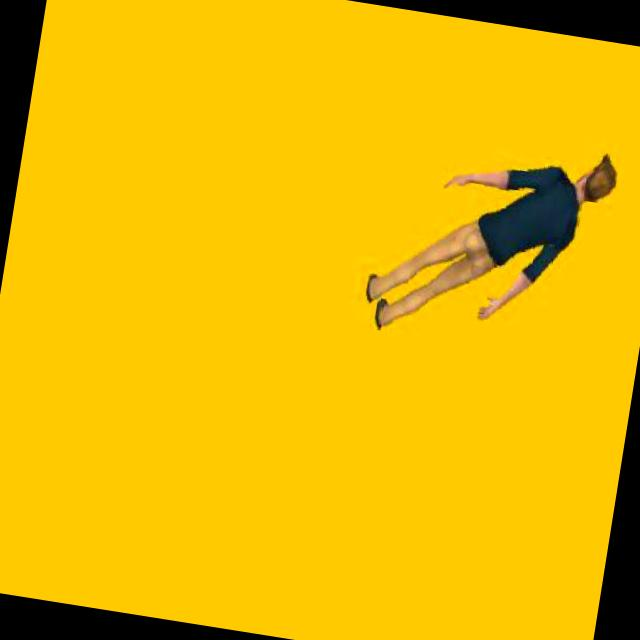Person: (357, 114, 628, 363)
